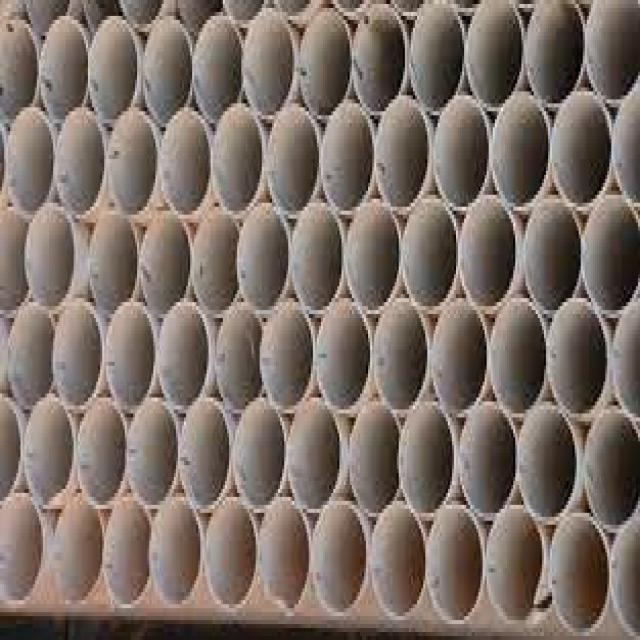pipe: (547, 299, 609, 420), (549, 513, 609, 637), (551, 91, 613, 209), (518, 404, 579, 522), (486, 505, 545, 623), (491, 91, 549, 211), (581, 193, 640, 310), (458, 195, 517, 312), (583, 407, 640, 528), (459, 402, 517, 520), (402, 198, 459, 313), (523, 198, 580, 312), (465, 1, 523, 113), (431, 301, 488, 414), (489, 301, 546, 414), (427, 506, 482, 622), (434, 96, 489, 211), (370, 501, 425, 614), (373, 298, 428, 411), (374, 98, 429, 210), (399, 405, 453, 519), (348, 398, 400, 515), (313, 502, 368, 612), (298, 7, 353, 117), (321, 101, 374, 214), (346, 200, 401, 308), (410, 4, 465, 112), (157, 299, 212, 407), (524, 6, 585, 103), (316, 302, 370, 411), (205, 497, 258, 608), (48, 497, 102, 605), (261, 301, 315, 409), (259, 497, 312, 607), (179, 400, 230, 514), (287, 402, 340, 511), (353, 6, 406, 114), (211, 106, 263, 216), (151, 496, 202, 608), (266, 109, 320, 213), (128, 399, 179, 509), (215, 305, 264, 418), (244, 11, 296, 117), (160, 110, 210, 220), (292, 205, 343, 312), (141, 17, 192, 124), (108, 111, 158, 220), (192, 15, 243, 121), (24, 205, 75, 311), (234, 403, 285, 508), (586, 0, 639, 101), (55, 108, 104, 217), (55, 297, 104, 406), (105, 303, 156, 407), (23, 398, 73, 504), (238, 205, 288, 310), (88, 212, 139, 314), (89, 20, 138, 126), (190, 208, 239, 313), (77, 402, 127, 504), (40, 16, 88, 122), (103, 498, 150, 606), (8, 109, 54, 218), (140, 216, 190, 316), (8, 303, 53, 406), (1, 495, 43, 603), (0, 18, 39, 124), (613, 77, 640, 202), (610, 516, 638, 635), (613, 297, 638, 415)
